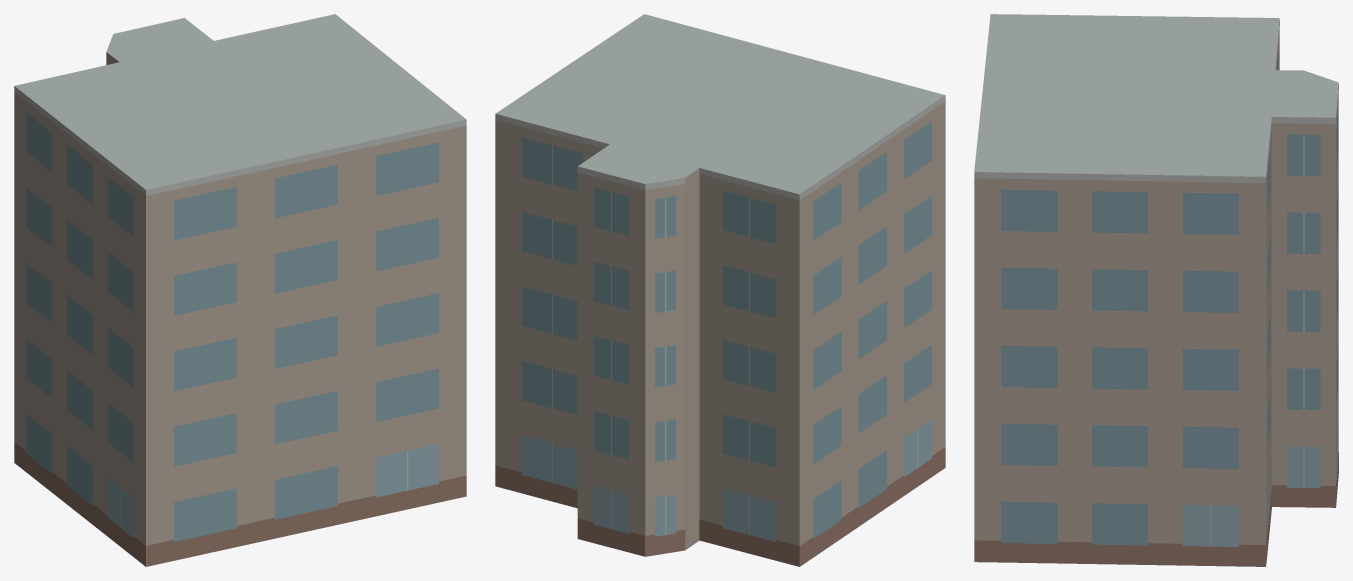
Rendered from survey-upis-32653420.glb.
3 views of the same model, side by side, from view 1: azimuth 30°, elevation 25°; view 2: azimuth 150°, elevation 25°; view 3: azimuth 270°, elevation 25° (orthographic). The views are drawn at different scales.
Visible parts, largest first — view 1: survey-upis-32653420.tmp; view 2: survey-upis-32653420.tmp; view 3: survey-upis-32653420.tmp.
Part boxes in pixels (x1,y1,x2,y2): survey-upis-32653420.tmp: (14,14,466,566); survey-upis-32653420.tmp: (495,14,945,566); survey-upis-32653420.tmp: (974,14,1338,566).
Bounding box in the file's own units: 13.57 × 15.15 × 12.84.
